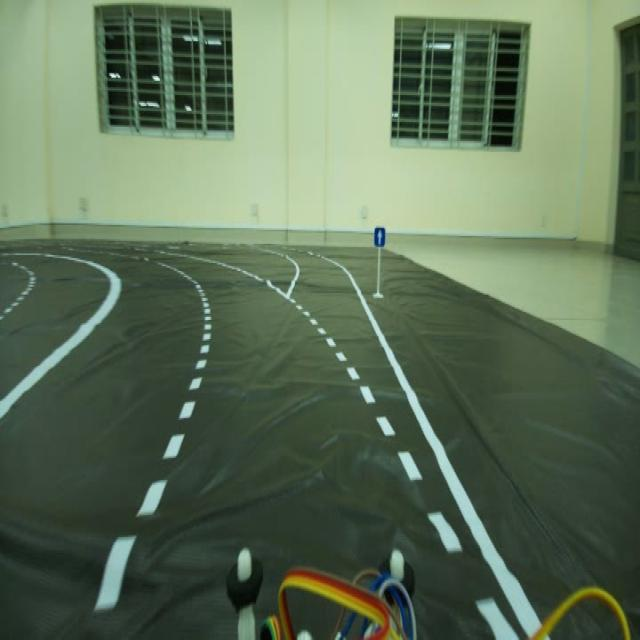onewayroad: (371, 216, 392, 253)
